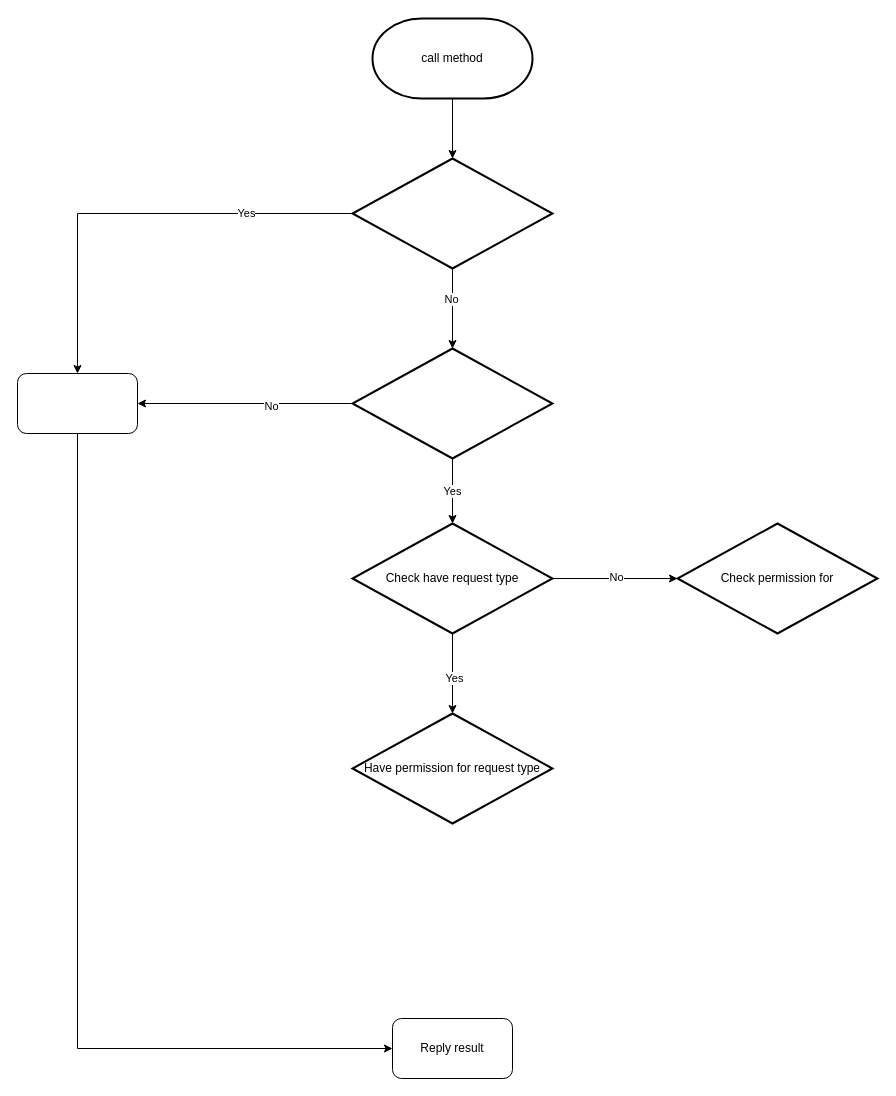
Some shapes in this 896 by 1096 pixel diagram are drawn without their labels. Each missing label, with the centre of its shape:
Check ignore permission handle: the point at 452,213
Check need permission by method name: the point at 452,403
handle method: the point at 77,403
